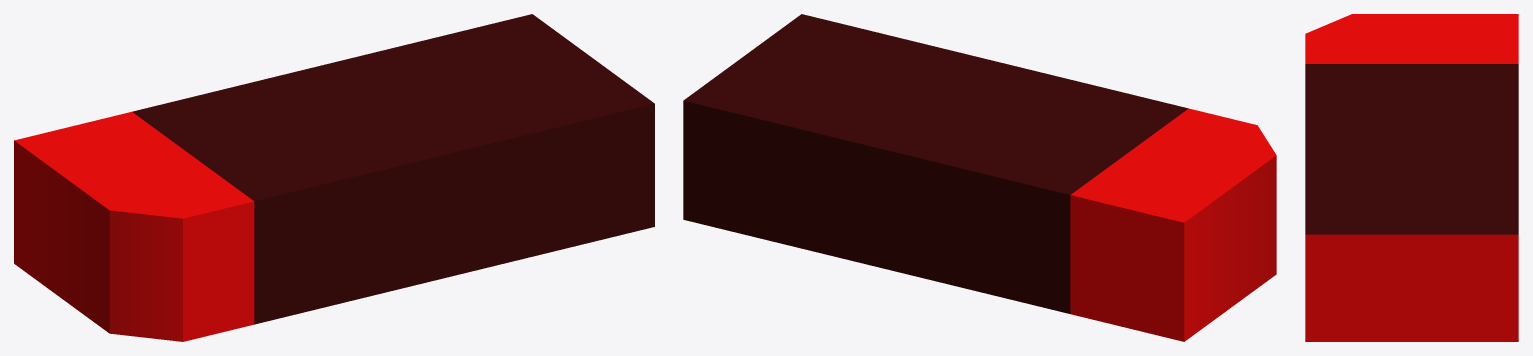
File: eraser.glb
3 renders of one model, left to right at view 1: azimuth 30°, elevation 25°; view 2: azimuth 150°, elevation 25°; view 3: azimuth 270°, elevation 25°, orthographic. The views are drawn at different scales.
Visible parts, largest first — view 1: Eraser; view 2: Eraser; view 3: Eraser.
Boxes of the visible parts, x1,y1,x2,y2 form: Eraser: [14, 14, 654, 341]; Eraser: [683, 14, 1276, 341]; Eraser: [1305, 14, 1518, 341].
Bounding box in the file's own units: 0.44 × 0.1 × 0.18.
